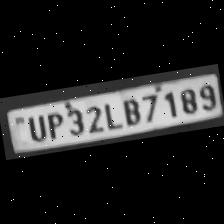1: (157, 88, 180, 120)
2: (80, 101, 105, 135)
3: (61, 104, 85, 138)
7: (137, 91, 163, 125)
8: (174, 84, 200, 116)
9: (194, 79, 218, 112)
B: (117, 94, 143, 128)
L: (100, 100, 122, 132)
P: (41, 108, 65, 141)
U: (23, 111, 48, 143)
